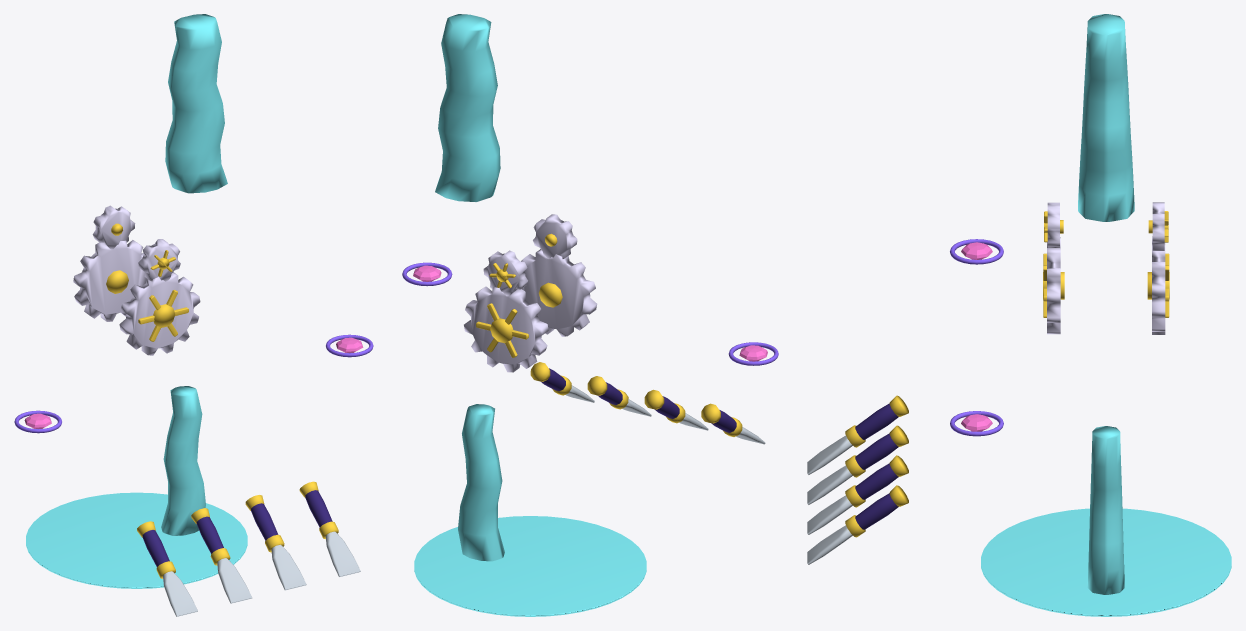
Rendered from ChiselMill_T4_Upgrades.fbx.
The picture shows the model from 3 angles, left to right: view 1: azimuth 30°, elevation 25°; view 2: azimuth 150°, elevation 25°; view 3: azimuth 270°, elevation 25°; orthographic projection. The views are drawn at different scales.
Visible parts, largest first — view 1: ChiselMillT4U5GlowWaterGlow, ChiselMillT4U1Chisels, ChiselMillT4U3Gear1, ChiselMillT4U3Gear2, ChiselMillT4U3Pinion1, ChiselMillT4U3Pinion2, ChiselMillT4U2Lamp2Glow, ChiselMillT4U2Lamp1Glow; view 2: ChiselMillT4U5GlowWaterGlow, ChiselMillT4U3Gear2, ChiselMillT4U3Gear1, ChiselMillT4U1Chisels, ChiselMillT4U3Pinion1, ChiselMillT4U3Pinion2, ChiselMillT4U2Lamp1Glow, ChiselMillT4U2Lamp2Glow; view 3: ChiselMillT4U5GlowWaterGlow, ChiselMillT4U1Chisels, ChiselMillT4U3Gear1, ChiselMillT4U3Gear2, ChiselMillT4U2Lamp1Glow, ChiselMillT4U2Lamp2Glow, ChiselMillT4U3Pinion2, ChiselMillT4U3Pinion1.
Boxes of the visible parts, box(x1,y1,x2,y2) form: ChiselMillT4U5GlowWaterGlow: box(26, 14, 247, 588); ChiselMillT4U1Chisels: box(137, 481, 360, 616); ChiselMillT4U3Gear1: box(119, 272, 200, 355); ChiselMillT4U3Gear2: box(73, 240, 146, 321); ChiselMillT4U3Pinion1: box(138, 239, 180, 281); ChiselMillT4U3Pinion2: box(92, 205, 135, 249); ChiselMillT4U2Lamp2Glow: box(326, 334, 373, 357); ChiselMillT4U2Lamp1Glow: box(14, 410, 61, 433); ChiselMillT4U5GlowWaterGlow: box(414, 14, 646, 616); ChiselMillT4U3Gear2: box(464, 286, 548, 372); ChiselMillT4U3Gear1: box(521, 249, 597, 336); ChiselMillT4U1Chisels: box(530, 362, 765, 444); ChiselMillT4U3Pinion1: box(533, 214, 577, 258); ChiselMillT4U3Pinion2: box(483, 250, 527, 296); ChiselMillT4U2Lamp1Glow: box(728, 342, 778, 365); ChiselMillT4U2Lamp2Glow: box(402, 262, 452, 286); ChiselMillT4U5GlowWaterGlow: box(981, 14, 1231, 616); ChiselMillT4U1Chisels: box(807, 395, 908, 564); ChiselMillT4U3Gear1: box(1043, 237, 1064, 334); ChiselMillT4U3Gear2: box(1147, 236, 1169, 334); ChiselMillT4U2Lamp1Glow: box(950, 239, 1003, 264); ChiselMillT4U2Lamp2Glow: box(950, 411, 1003, 436); ChiselMillT4U3Pinion2: box(1148, 202, 1168, 250); ChiselMillT4U3Pinion1: box(1044, 202, 1063, 247).
Size of the model in its own units: 310 by 424 by 285.
